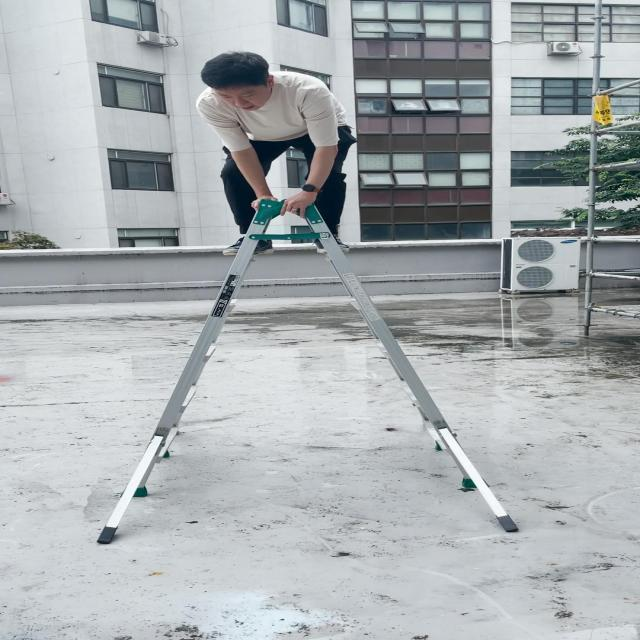face_nomask: (215, 86, 263, 114)
hand_noglove: (277, 189, 318, 219)
head_helmet: (199, 47, 265, 86)
person: (184, 45, 365, 266)
